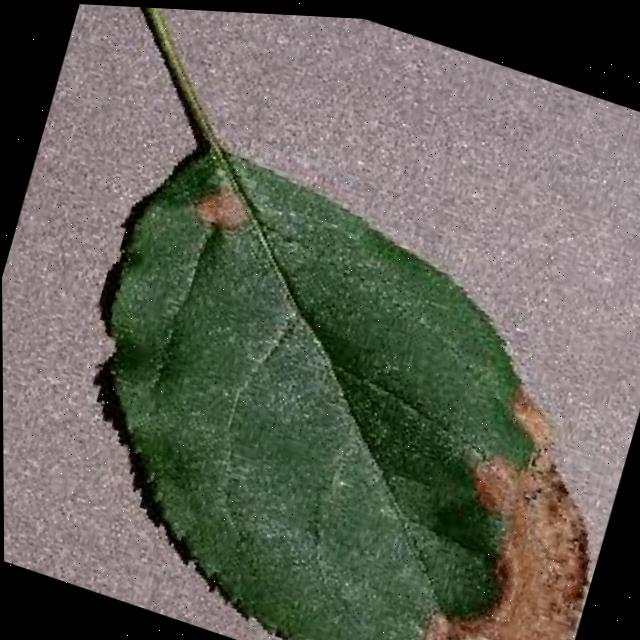black_rot: (389, 364, 638, 640), (183, 173, 268, 245)
